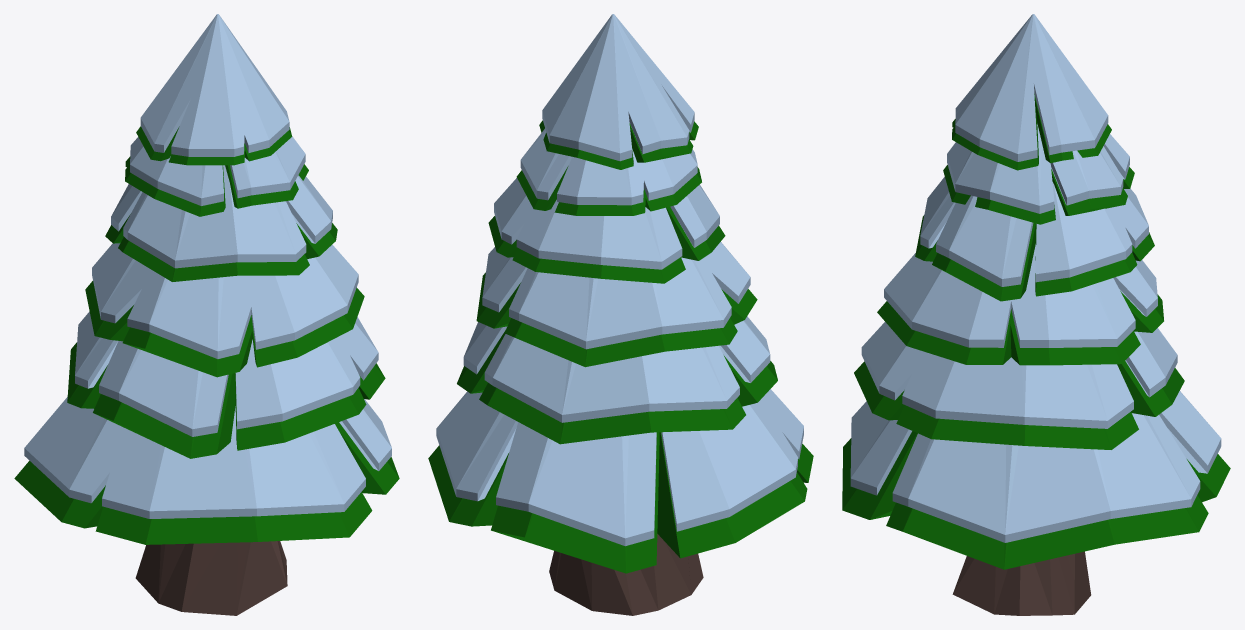
Rendered from tree_1.fbx.
3 renders of one model, left to right at view 1: azimuth 30°, elevation 25°; view 2: azimuth 150°, elevation 25°; view 3: azimuth 270°, elevation 25°, orthographic. The views are drawn at different scales.
Parts seen in each view (by area): view 1: Cone.001, Cone, Cylinder; view 2: Cone.001, Cone, Cylinder; view 3: Cone.001, Cone, Cylinder.
Boxes of the visible parts, x1,y1,x2,y2 form: Cone.001: (24, 14, 391, 518); Cone: (14, 126, 399, 544); Cylinder: (135, 541, 287, 615); Cone.001: (436, 14, 803, 546); Cone: (428, 120, 813, 573); Cylinder: (549, 534, 703, 615); Cone.001: (850, 14, 1221, 542); Cone: (842, 94, 1230, 569); Cylinder: (952, 551, 1091, 615).
Size of the model in its own units: 1367 by 2269 by 1356.
